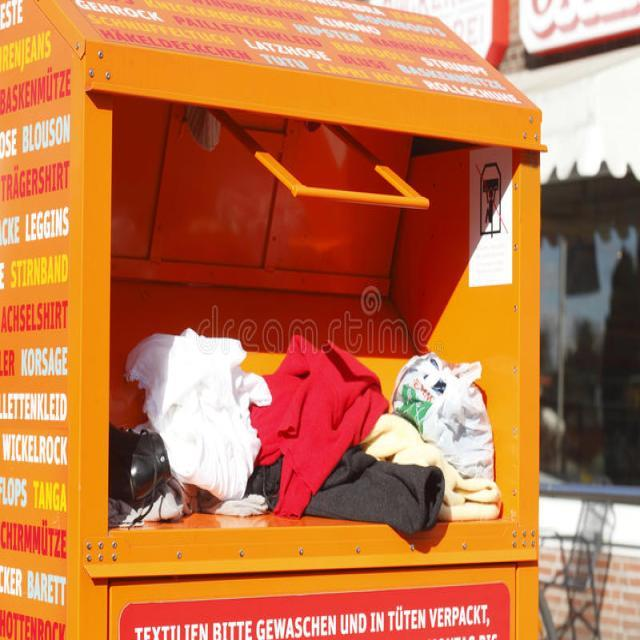clothes: (159, 332, 491, 507)
